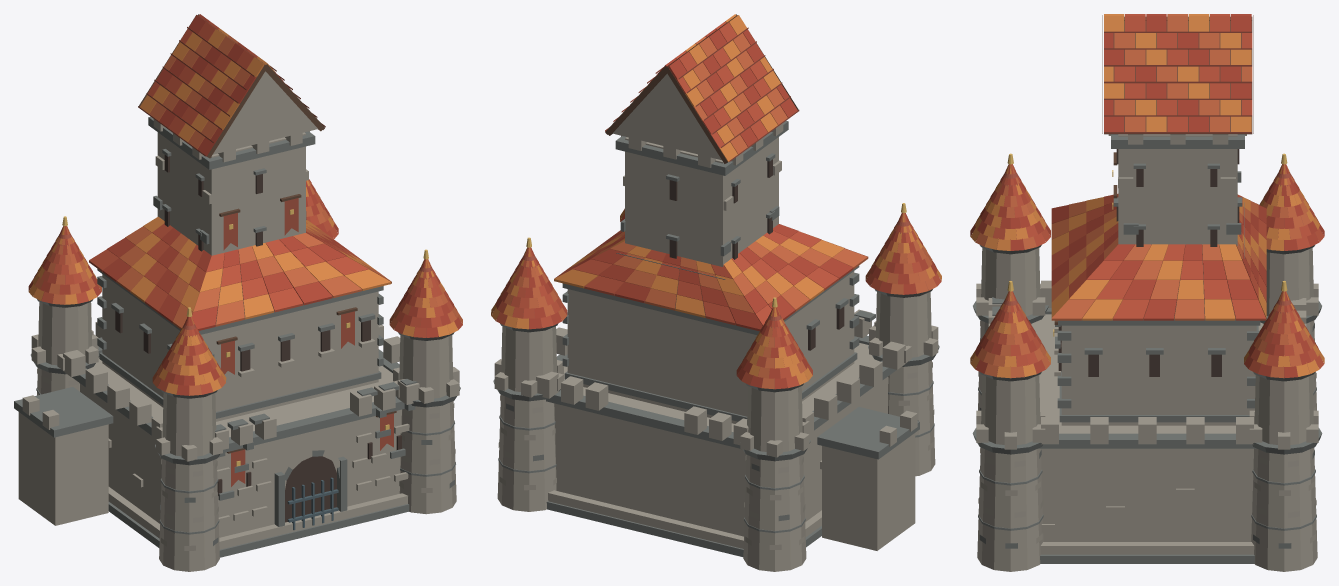
The model's file is ENV_Castle_LOD0.glb.
The picture shows the model from 3 angles, left to right: view 1: azimuth 30°, elevation 25°; view 2: azimuth 150°, elevation 25°; view 3: azimuth 270°, elevation 25°; orthographic projection. The views are drawn at different scales.
Parts seen in each view (by area): view 1: ENV_Castle_LOD0_keep_stone, ENV_Castle_LOD0_walls_stone, ENV_Castle_LOD0_keep_roofTiles, ENV_Castle_LOD0_completion_stone, ENV_Castle_LOD0_towers_raised_roofTiles, ENV_Castle_LOD0_towers_raised_stone, ENV_Castle_LOD0_keep_stoneDark, ENV_Castle_LOD0_walls_stoneDark, ENV_Castle_LOD0_completion_stoneDark, ENV_Castle_LOD0_foundation_stone, ENV_Castle_LOD0_keep_roof, ENV_Castle_LOD0_foundation_stoneDark (+5 smaller); view 2: ENV_Castle_LOD0_walls_stone, ENV_Castle_LOD0_keep_stone, ENV_Castle_LOD0_keep_roofTiles, ENV_Castle_LOD0_completion_stone, ENV_Castle_LOD0_towers_raised_roofTiles, ENV_Castle_LOD0_towers_raised_stone, ENV_Castle_LOD0_keep_stoneDark, ENV_Castle_LOD0_walls_stoneDark, ENV_Castle_LOD0_completion_stoneDark, ENV_Castle_LOD0_foundation_stone, ENV_Castle_LOD0_foundation_stoneDark, ENV_Castle_LOD0_keep_woodDark (+2 smaller); view 3: ENV_Castle_LOD0_walls_stone, ENV_Castle_LOD0_keep_roofTiles, ENV_Castle_LOD0_keep_stone, ENV_Castle_LOD0_towers_raised_roofTiles, ENV_Castle_LOD0_towers_raised_stone, ENV_Castle_LOD0_keep_stoneDark, ENV_Castle_LOD0_walls_stoneDark, ENV_Castle_LOD0_completion_stone, ENV_Castle_LOD0_foundation_stone, ENV_Castle_LOD0_keep_roof, ENV_Castle_LOD0_foundation_stoneDark, ENV_Castle_LOD0_keep_woodDark (+3 smaller).
Boxes of the visible parts, x1=… form: ENV_Castle_LOD0_keep_stone: x1=102, y1=71, x2=378, y2=421; ENV_Castle_LOD0_walls_stone: x1=31, y1=334, x2=459, y2=571; ENV_Castle_LOD0_keep_roofTiles: x1=89, y1=14, x2=391, y2=330; ENV_Castle_LOD0_completion_stone: x1=18, y1=322, x2=419, y2=525; ENV_Castle_LOD0_towers_raised_roofTiles: x1=28, y1=179, x2=462, y2=395; ENV_Castle_LOD0_towers_raised_stone: x1=38, y1=302, x2=453, y2=456; ENV_Castle_LOD0_keep_stoneDark: x1=97, y1=116, x2=383, y2=418; ENV_Castle_LOD0_walls_stoneDark: x1=30, y1=346, x2=460, y2=545; ENV_Castle_LOD0_completion_stoneDark: x1=14, y1=379, x2=417, y2=457; ENV_Castle_LOD0_foundation_stone: x1=108, y1=487, x2=407, y2=549; ENV_Castle_LOD0_keep_roof: x1=138, y1=27, x2=354, y2=374; ENV_Castle_LOD0_foundation_stoneDark: x1=108, y1=502, x2=409, y2=557; ENV_Castle_LOD0_walls_stone: x1=494, y1=325, x2=938, y2=571; ENV_Castle_LOD0_keep_stone: x1=567, y1=73, x2=854, y2=423; ENV_Castle_LOD0_keep_roofTiles: x1=554, y1=14, x2=868, y2=331; ENV_Castle_LOD0_completion_stone: x1=536, y1=309, x2=917, y2=550; ENV_Castle_LOD0_towers_raised_roofTiles: x1=491, y1=208, x2=941, y2=389; ENV_Castle_LOD0_towers_raised_stone: x1=501, y1=292, x2=931, y2=451; ENV_Castle_LOD0_keep_stoneDark: x1=562, y1=120, x2=859, y2=421; ENV_Castle_LOD0_walls_stoneDark: x1=493, y1=335, x2=939, y2=533; ENV_Castle_LOD0_completion_stoneDark: x1=817, y1=310, x2=919, y2=459; ENV_Castle_LOD0_foundation_stone: x1=548, y1=490, x2=821, y2=548; ENV_Castle_LOD0_foundation_stoneDark: x1=546, y1=501, x2=821, y2=556; ENV_Castle_LOD0_keep_woodDark: x1=605, y1=14, x2=798, y2=324; ENV_Castle_LOD0_walls_stone: x1=976, y1=283, x2=1318, y2=571; ENV_Castle_LOD0_keep_roofTiles: x1=1051, y1=14, x2=1266, y2=320; ENV_Castle_LOD0_keep_stone: x1=1054, y1=134, x2=1256, y2=425; ENV_Castle_LOD0_towers_raised_roofTiles: x1=970, y1=164, x2=1324, y2=378; ENV_Castle_LOD0_towers_raised_stone: x1=981, y1=248, x2=1313, y2=444; ENV_Castle_LOD0_keep_stoneDark: x1=1055, y1=134, x2=1260, y2=422; ENV_Castle_LOD0_walls_stoneDark: x1=972, y1=301, x2=1322, y2=548; ENV_Castle_LOD0_completion_stone: x1=988, y1=280, x2=1306, y2=444; ENV_Castle_LOD0_foundation_stone: x1=1040, y1=542, x2=1254, y2=554; ENV_Castle_LOD0_keep_roof: x1=1104, y1=31, x2=1252, y2=133; ENV_Castle_LOD0_foundation_stoneDark: x1=1040, y1=554, x2=1254, y2=563; ENV_Castle_LOD0_keep_woodDark: x1=1054, y1=15, x2=1266, y2=324.
Bounding box in the file's own units: 15.11 × 18.18 × 12.18.
